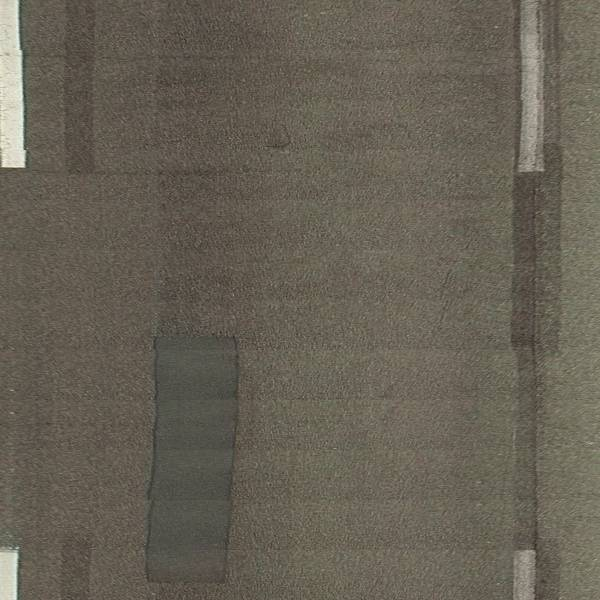road_damage: (141, 330, 241, 587), (263, 121, 295, 152)
